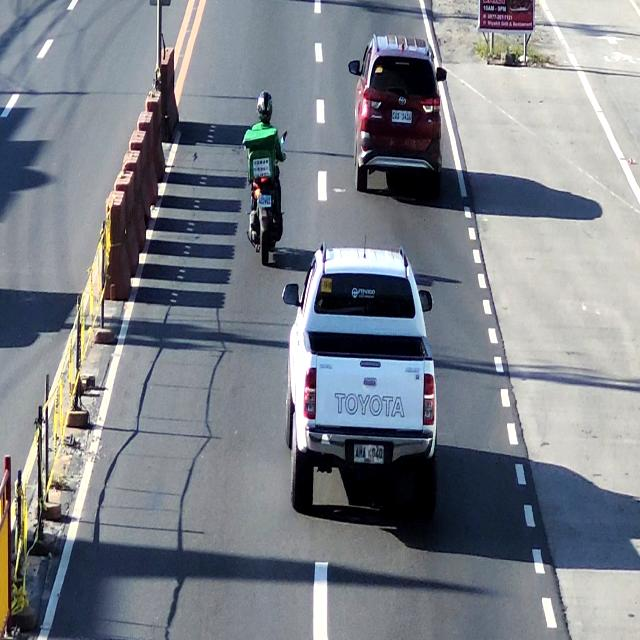Car: (293, 246, 440, 512), (354, 41, 446, 193)
License-Plate: (349, 442, 391, 472), (390, 102, 413, 127), (257, 191, 272, 212)
Motorcycle: (249, 96, 285, 266)
